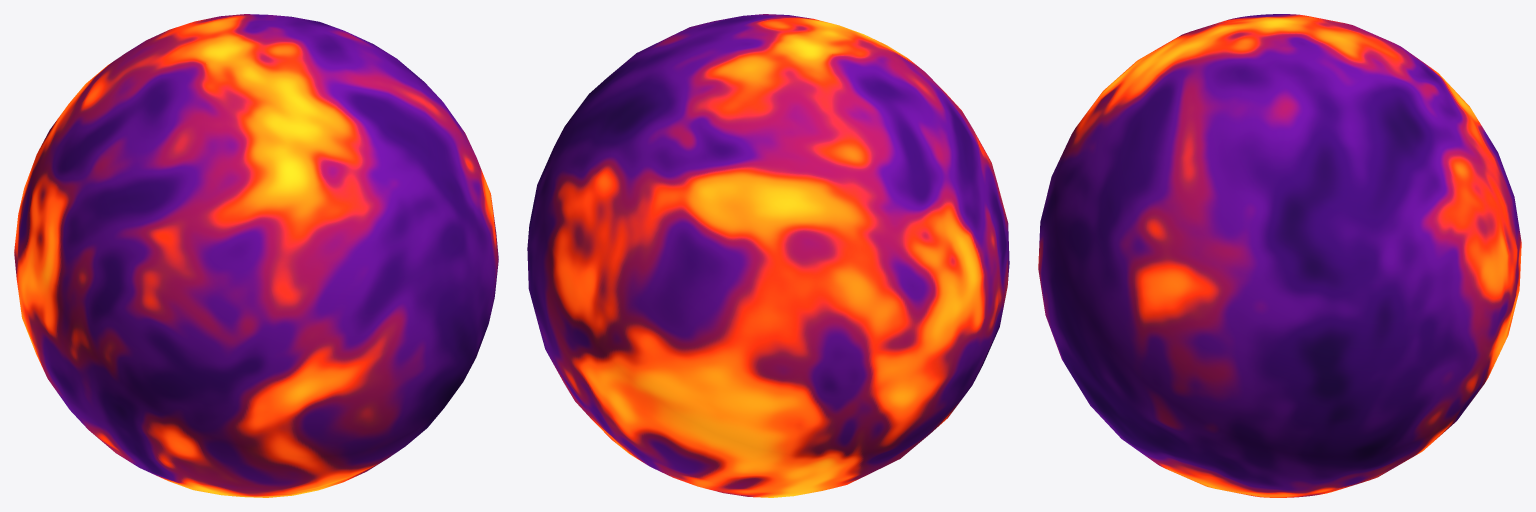
File: ball_retroPlasma.gltf
3 renders of one model, left to right at view 1: azimuth 30°, elevation 25°; view 2: azimuth 150°, elevation 25°; view 3: azimuth 270°, elevation 25°, orthographic.
Parts seen in each view (by area): view 1: retroPlasma; view 2: retroPlasma; view 3: retroPlasma.
Boxes of the visible parts, bbox=[...] form: retroPlasma: bbox=[14, 14, 498, 497]; retroPlasma: bbox=[527, 14, 1009, 497]; retroPlasma: bbox=[1038, 14, 1521, 497].
Size of the model in its own units: 0.2492 by 0.2491 by 0.2496.
Materials: 1 (1 with a texture image).
